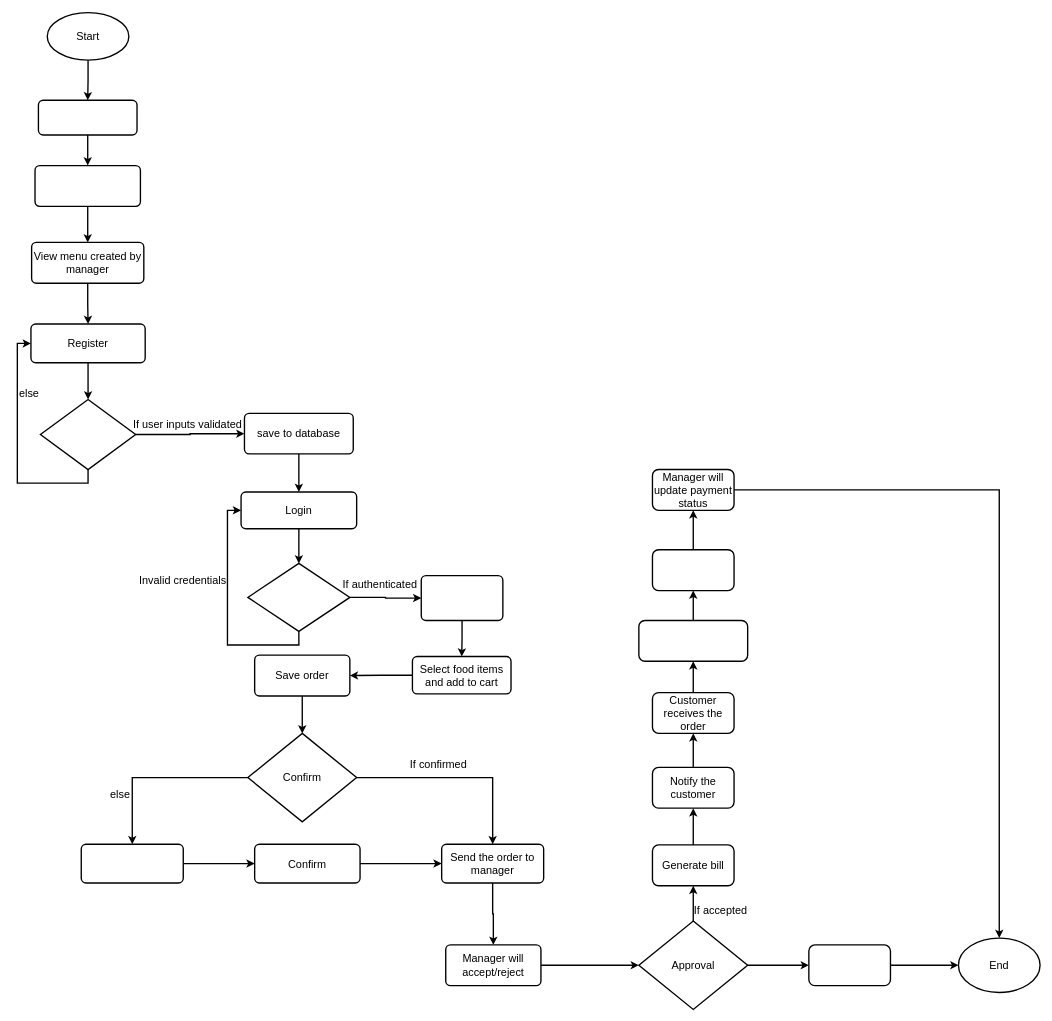
Image size: 1052x1021. Some labels were removed from this diagram. Here are the shapes that lost their labels. From the top down, the centre of each, then its label:
(87,117): Home page
(87,186): View food order page
(87,434): Validate
(692,570): Manager receives payment
(298,597): Authenticate
(461,598): Access the website
(693,640): Make payment(screenshot)
(132,863): Edit order
(849,965): Notify customer
